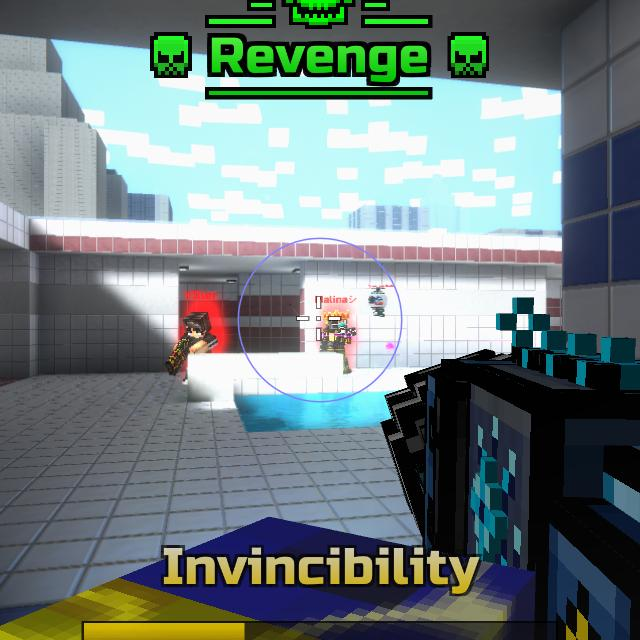Enemy: (319, 311, 356, 374), (179, 314, 221, 357)
